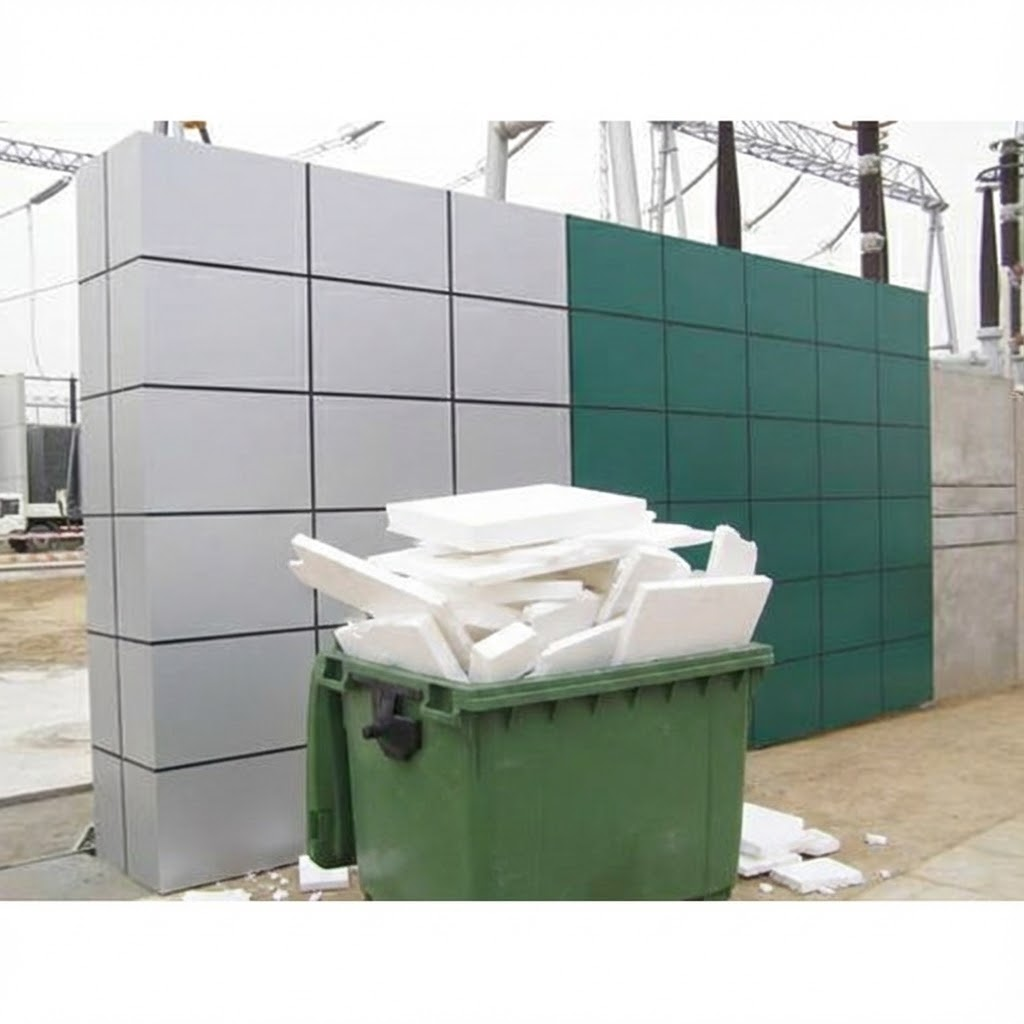bin_full: (289, 484, 773, 899)
bulk_waste: (738, 803, 862, 893)
